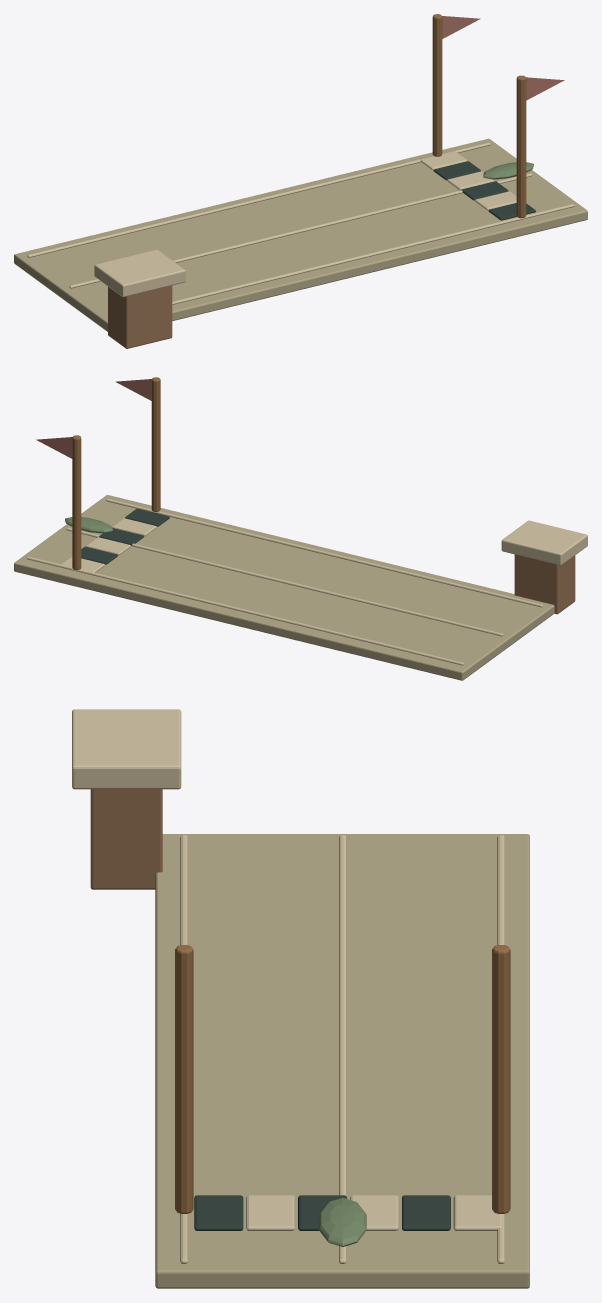
The model's file is snail-race.glb.
3 renders of one model, top to bottom at view 1: azimuth 30°, elevation 25°; view 2: azimuth 150°, elevation 25°; view 3: azimuth 270°, elevation 25°, orthographic. The views are drawn at different scales.
Parts seen in each view (by area): view 1: snail-race_Delight_Mesh; view 2: snail-race_Delight_Mesh; view 3: snail-race_Delight_Mesh.
Boxes of the visible parts, x1,y1,x2,y2 form: snail-race_Delight_Mesh: (14,14,587,348); snail-race_Delight_Mesh: (14,377,587,680); snail-race_Delight_Mesh: (72,709,529,1288).
Bounding box in the file's own units: 3.69 × 1.1 × 1.59.
